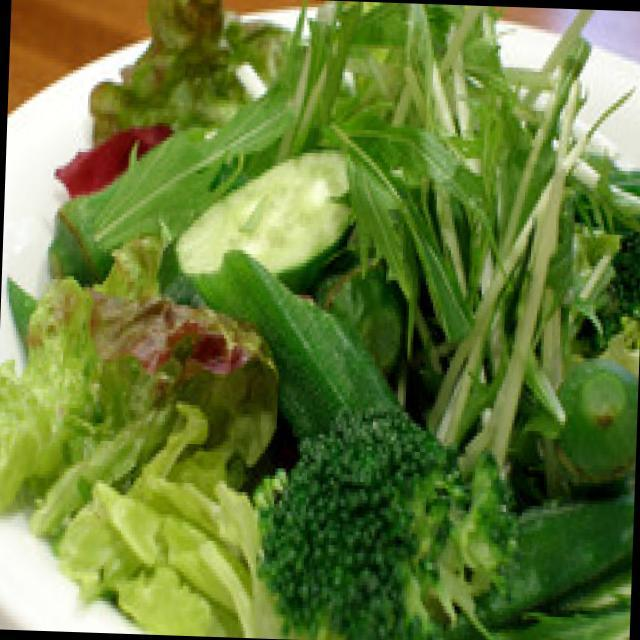Green Salad: (51, 23, 640, 640)
